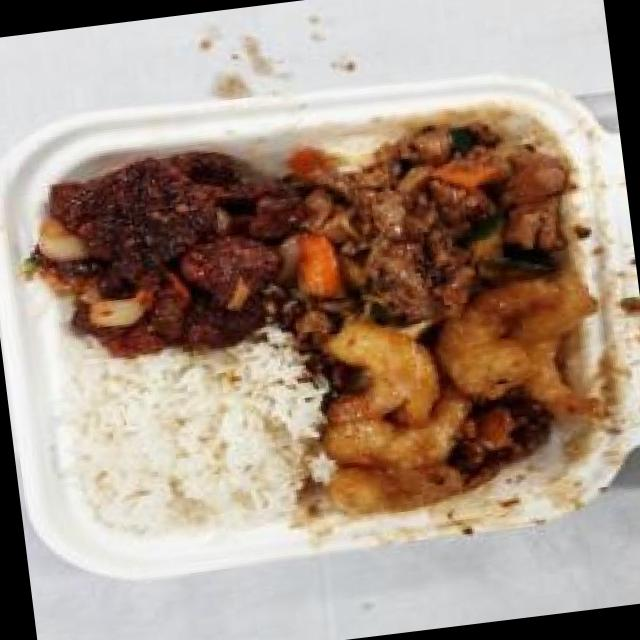Beijing Beef: (23, 130, 316, 363)
Honey Walnut Shrimp: (292, 264, 624, 529)
Kung Pao Chicken: (278, 106, 609, 350)
White Steamed Rice: (58, 340, 322, 546)
